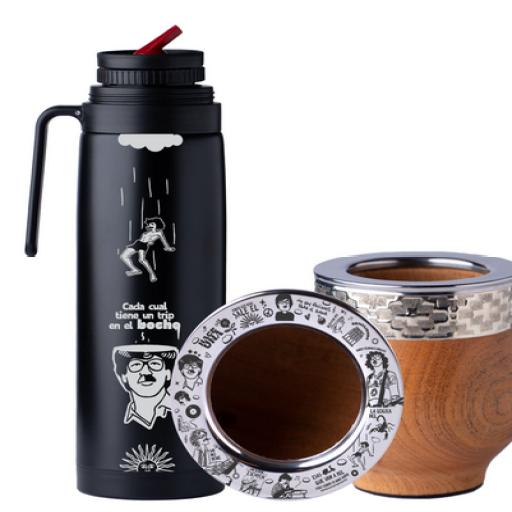mate: (316, 253, 511, 498)
termo: (26, 50, 228, 499)
